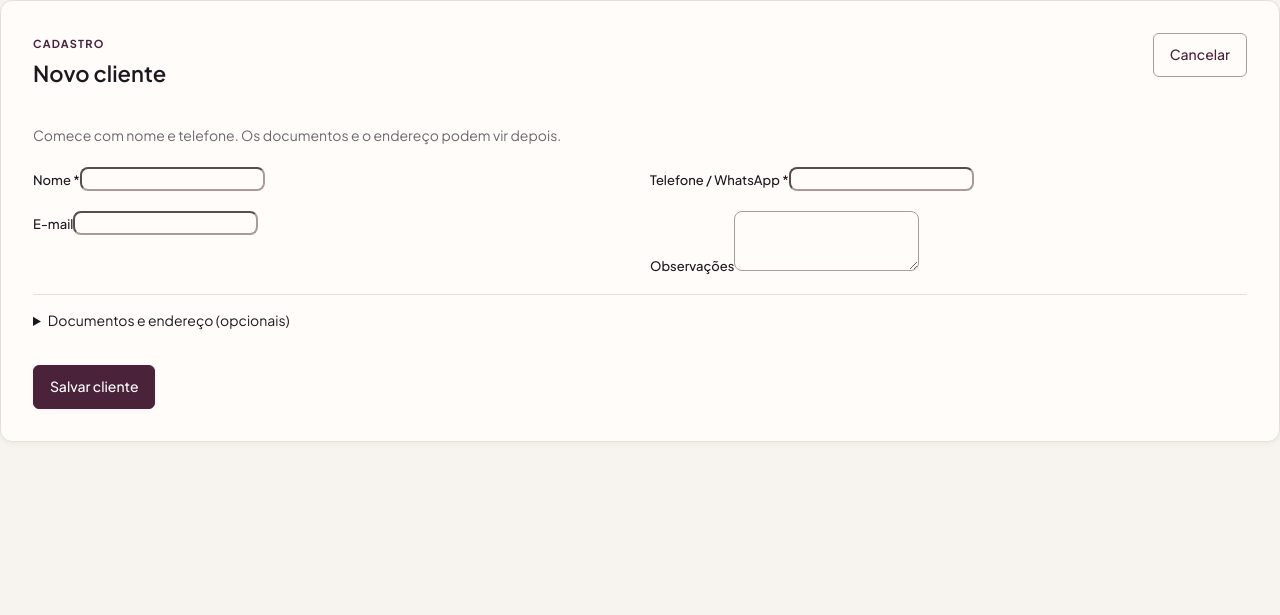
Scenario: customers interface › duplicate CPF preserves draft and existing-record link without automatic merge
Type "Pessoa sintética" into the field labelled "Nome *" at coordinates (172, 179), box [80,167,265,191]
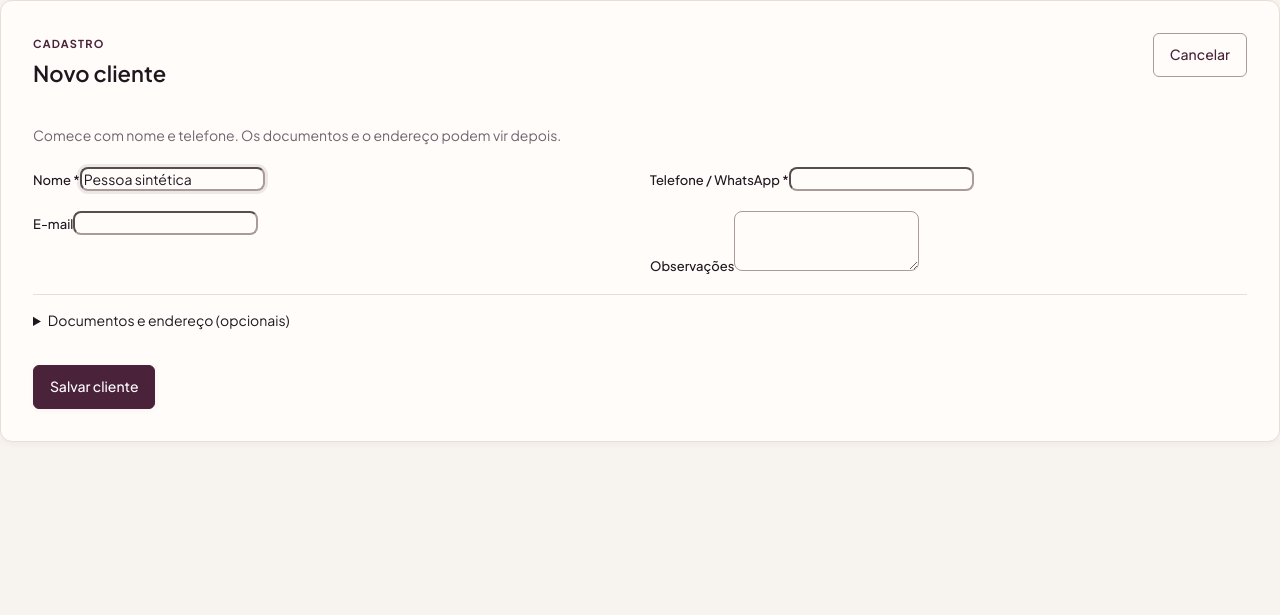
Type "(11) 91234-5678" into the field labelled "Telefone / WhatsApp *" at coordinates (881, 179), box [789,167,974,191]
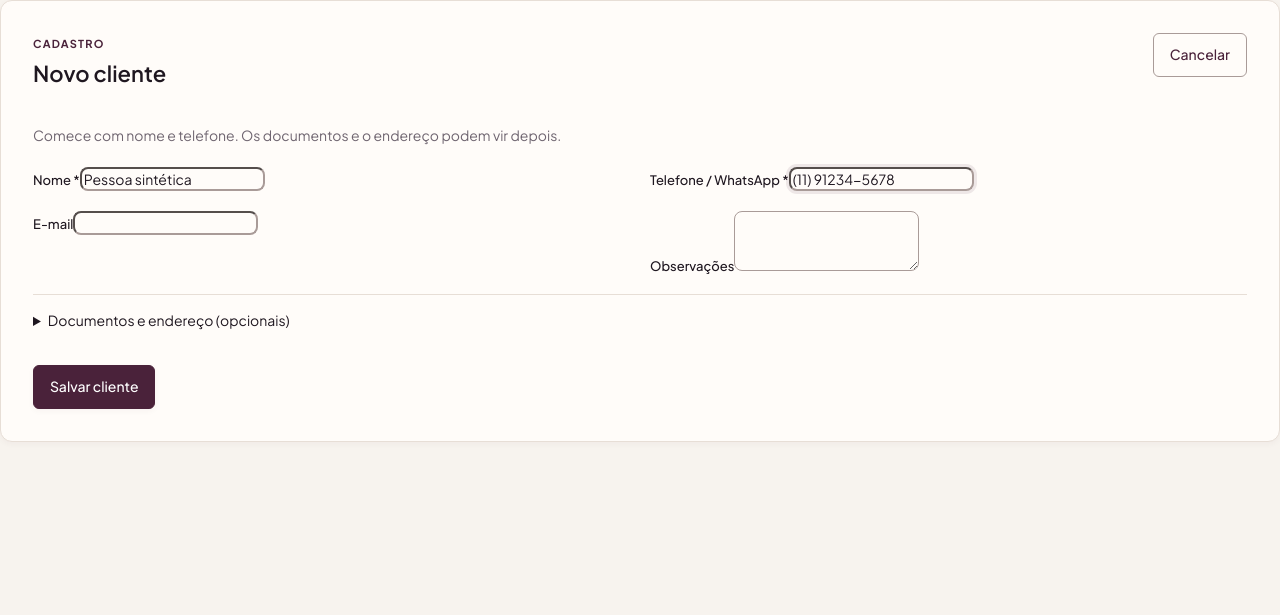
Click the button "Salvar cliente" at coordinates (94, 387), box [33,365,156,409]
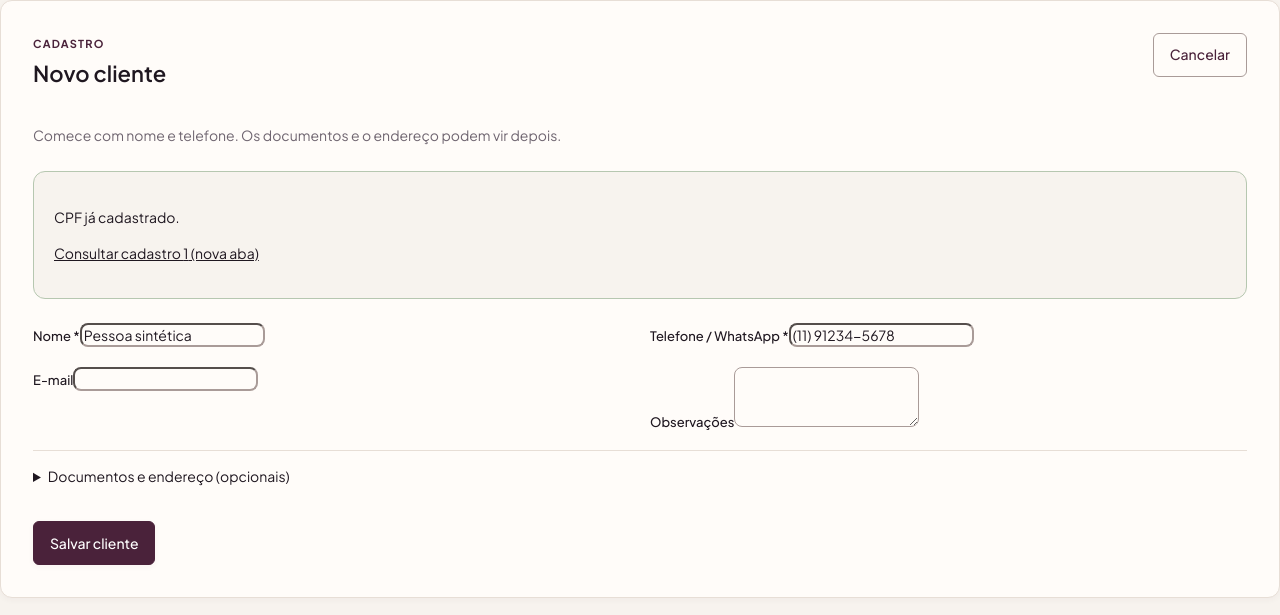
expect the message shows "CPF já cadastrado": met, box [54,208,180,226]
